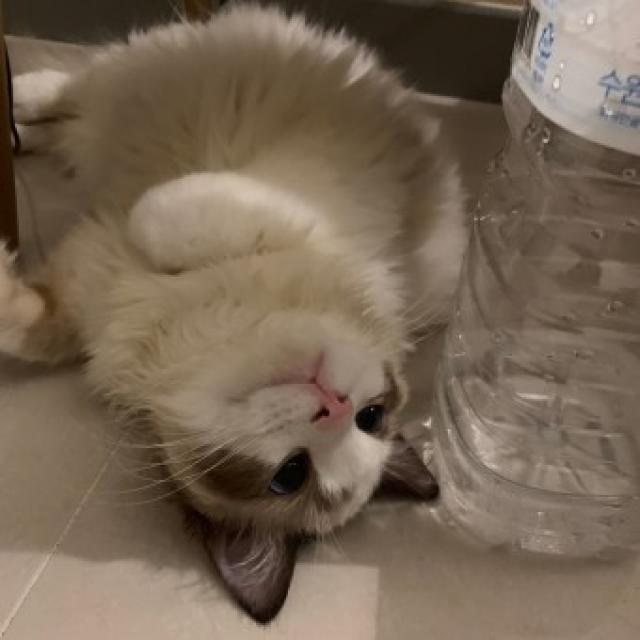cat: (0, 0, 478, 625)
